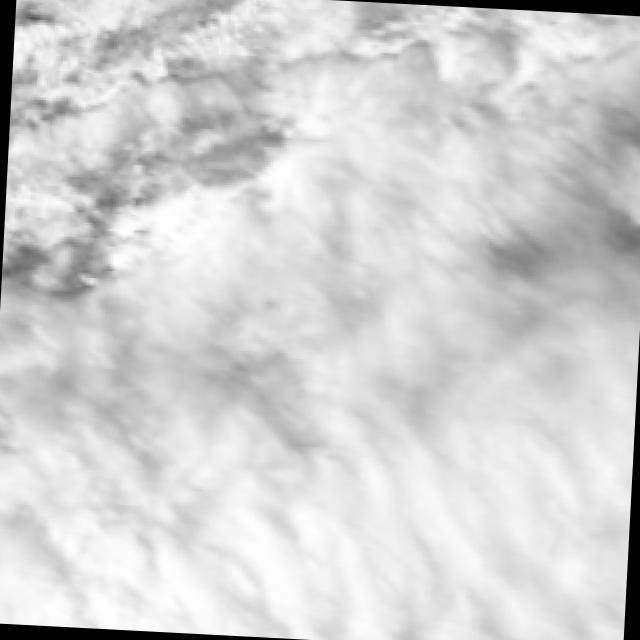CB: (189, 455, 537, 632)
